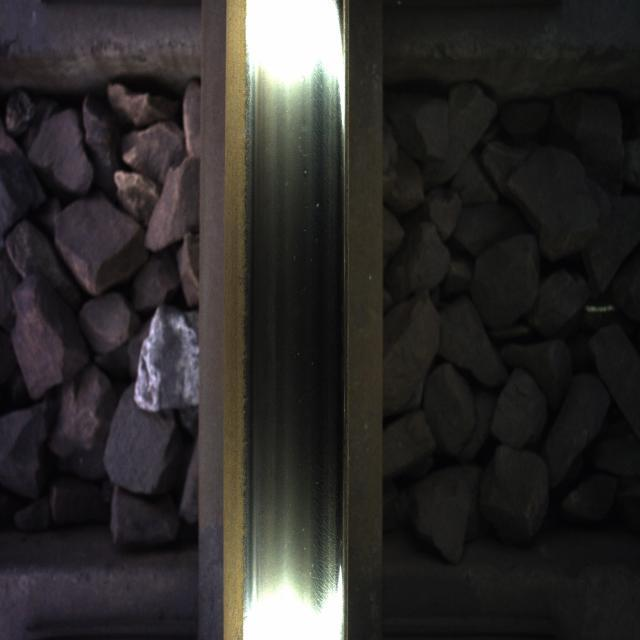break: (242, 28, 338, 592)
